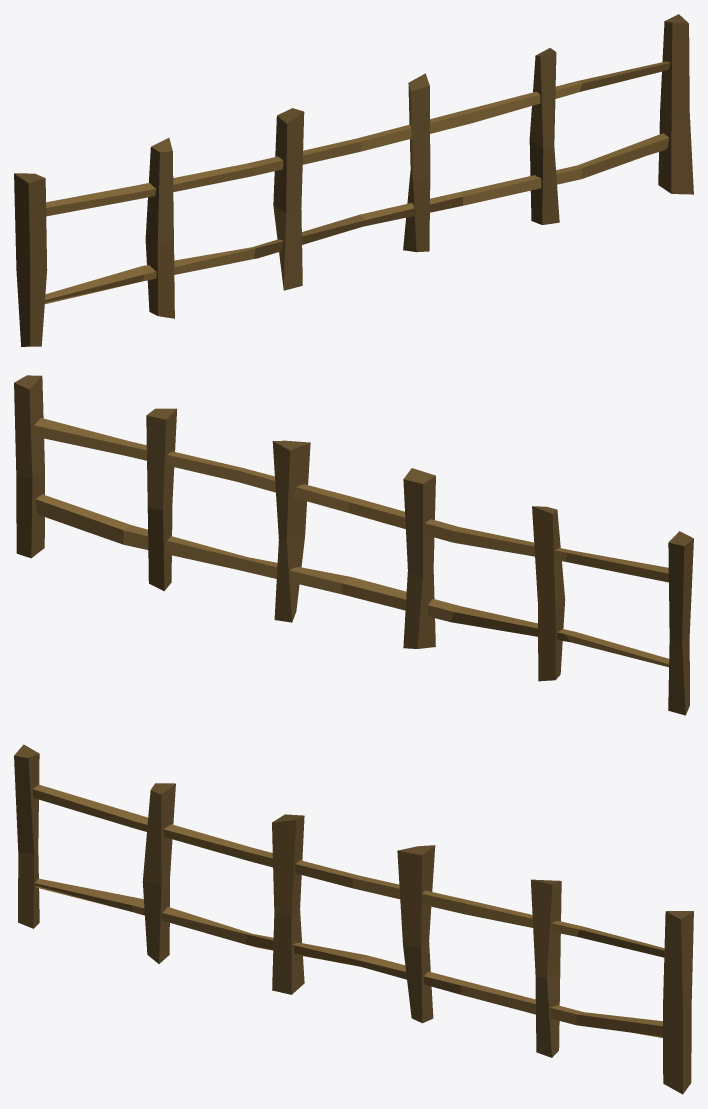
The model's file is wood fence4.fbx.
3 views of the same model, one above another, from view 1: azimuth 30°, elevation 25°; view 2: azimuth 150°, elevation 25°; view 3: azimuth 330°, elevation 25° (orthographic).
Parts seen in each view (by area): view 1: fence4_LOD0; view 2: fence4_LOD0; view 3: fence4_LOD0.
Part boxes in pixels (box(x1,y1,x2,y2)): fence4_LOD0: box(14, 14, 693, 346); fence4_LOD0: box(14, 375, 693, 715); fence4_LOD0: box(14, 744, 693, 1094).
Size of what is drawn, in the model's own units: 9.45 by 2.38 by 0.3633.
